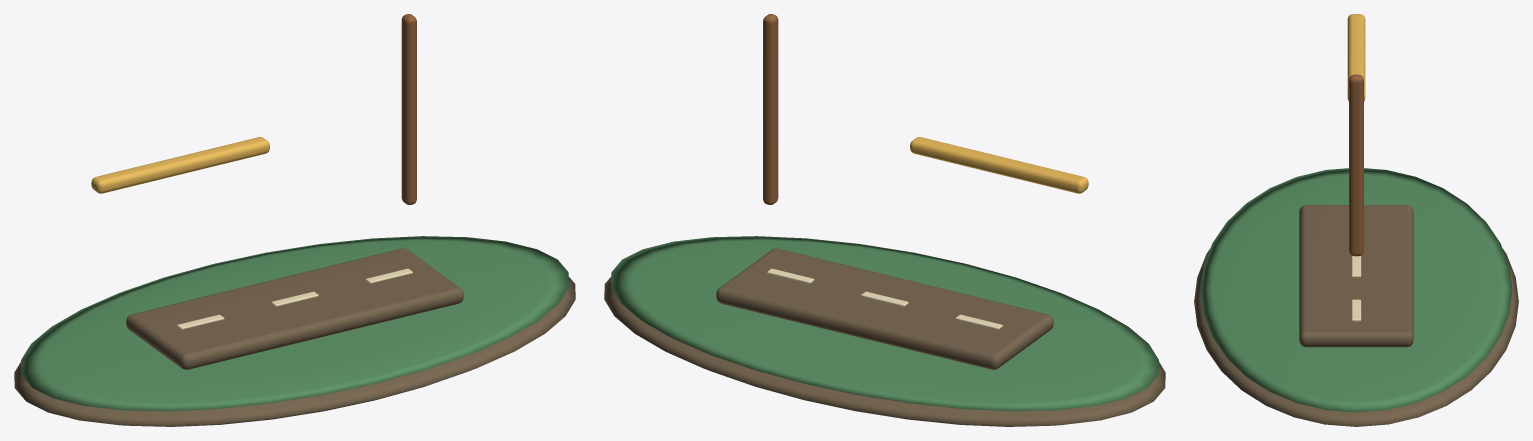
The model's file is complete-first-continuous-line.glb.
3 renders of one model, left to right at view 1: azimuth 30°, elevation 25°; view 2: azimuth 150°, elevation 25°; view 3: azimuth 270°, elevation 25°, orthographic. The views are drawn at different scales.
Parts seen in each view (by area): view 1: complete-first-continuous-line_surface_01, complete-first-continuous-line_surface_00, complete-first-continuous-line_surface_02, complete-first-continuous-line_surface_03, complete-first-continuous-line_surface_04; view 2: complete-first-continuous-line_surface_01, complete-first-continuous-line_surface_00, complete-first-continuous-line_surface_02, complete-first-continuous-line_surface_03, complete-first-continuous-line_surface_04; view 3: complete-first-continuous-line_surface_01, complete-first-continuous-line_surface_00, complete-first-continuous-line_surface_03, complete-first-continuous-line_surface_02, complete-first-continuous-line_surface_04.
Boxes of the visible parts, left/top/right/bottom form: complete-first-continuous-line_surface_01: left=21, top=236, right=568, bottom=411; complete-first-continuous-line_surface_00: left=14, top=248, right=575, bottom=426; complete-first-continuous-line_surface_02: left=91, top=137, right=269, bottom=193; complete-first-continuous-line_surface_03: left=401, top=14, right=416, bottom=204; complete-first-continuous-line_surface_04: left=177, top=268, right=412, bottom=329; complete-first-continuous-line_surface_01: left=611, top=236, right=1158, bottom=411; complete-first-continuous-line_surface_00: left=604, top=248, right=1165, bottom=426; complete-first-continuous-line_surface_02: left=910, top=137, right=1088, bottom=193; complete-first-continuous-line_surface_03: left=763, top=14, right=778, bottom=204; complete-first-continuous-line_surface_04: left=767, top=268, right=1002, bottom=329; complete-first-continuous-line_surface_01: left=1200, top=168, right=1512, bottom=412; complete-first-continuous-line_surface_00: left=1194, top=205, right=1518, bottom=426; complete-first-continuous-line_surface_03: left=1349, top=74, right=1363, bottom=256; complete-first-continuous-line_surface_02: left=1347, top=14, right=1365, bottom=101; complete-first-continuous-line_surface_04: left=1351, top=256, right=1361, bottom=321.
Size of the model in its own units: 4.56 by 2.5 by 2.5.
